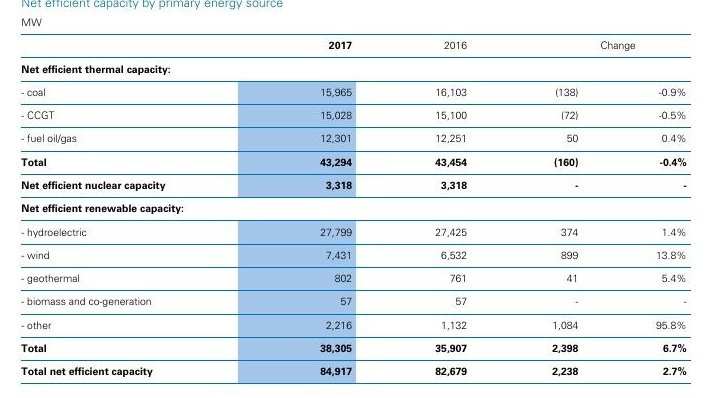table: (0, 0, 712, 398)
